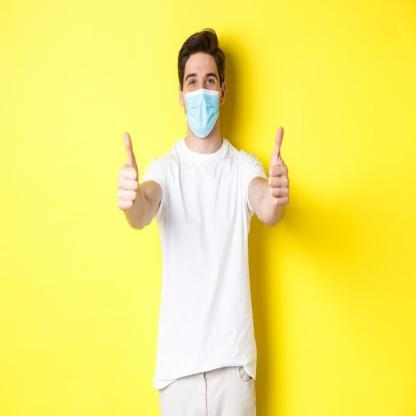thumb_up: (113, 127, 142, 214), (266, 122, 294, 211)
